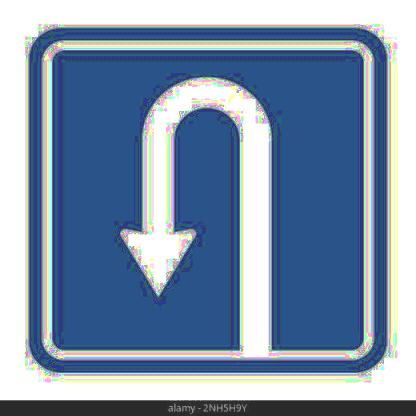U-turn: (37, 30, 376, 366)
